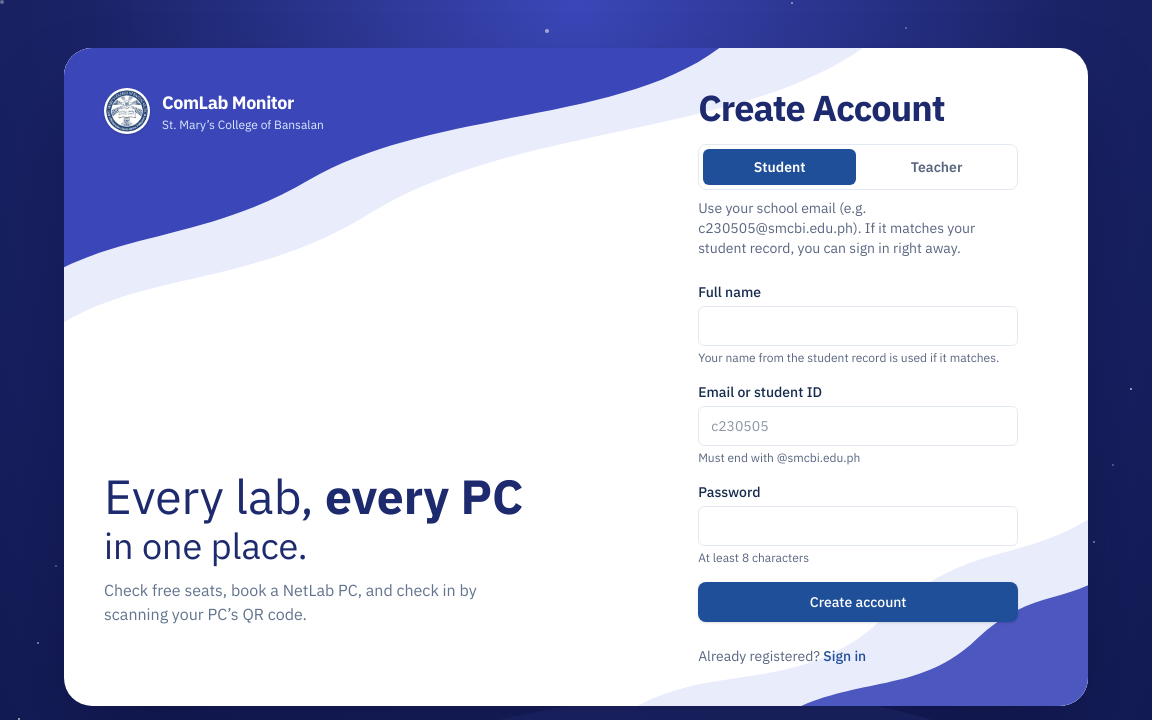
Scenario: auth gate › asks for a school email on sign-up
The width and height of the screenshot is (1152, 720).
Click the button "teacher".
click(937, 167)  # box [860,149,1013,185]
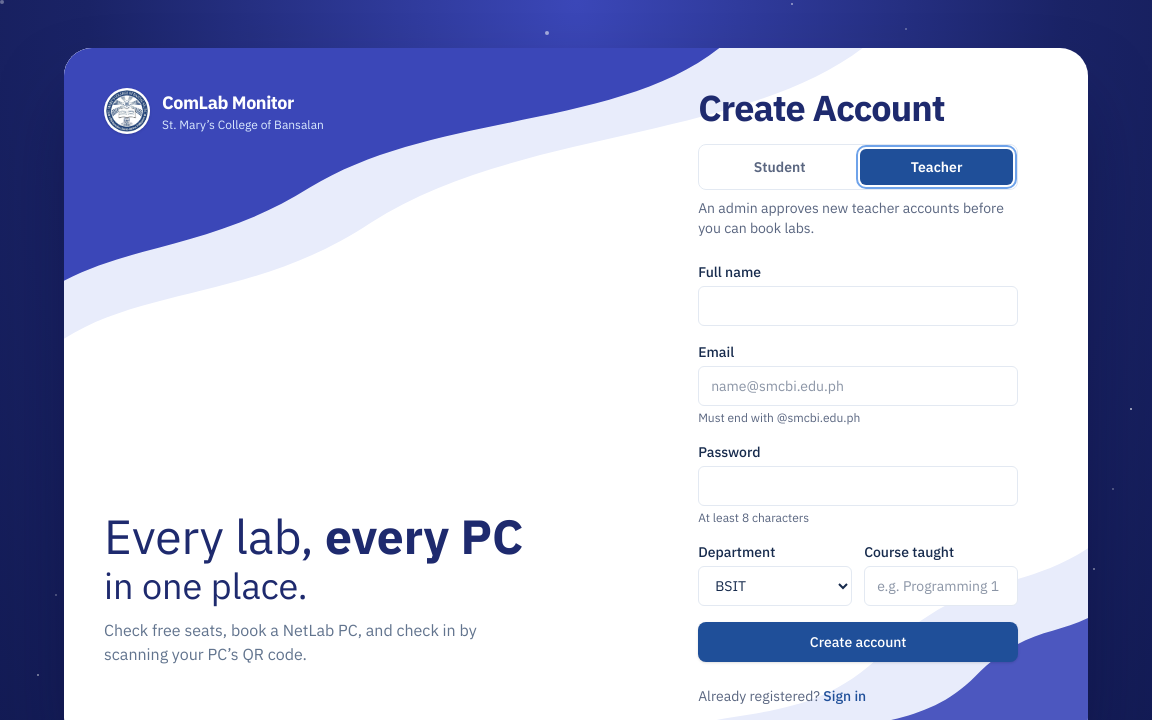
Type "Test User" into the field labelled "Full name".
click(858, 306); type("Test User")  # box [698,286,1018,326]
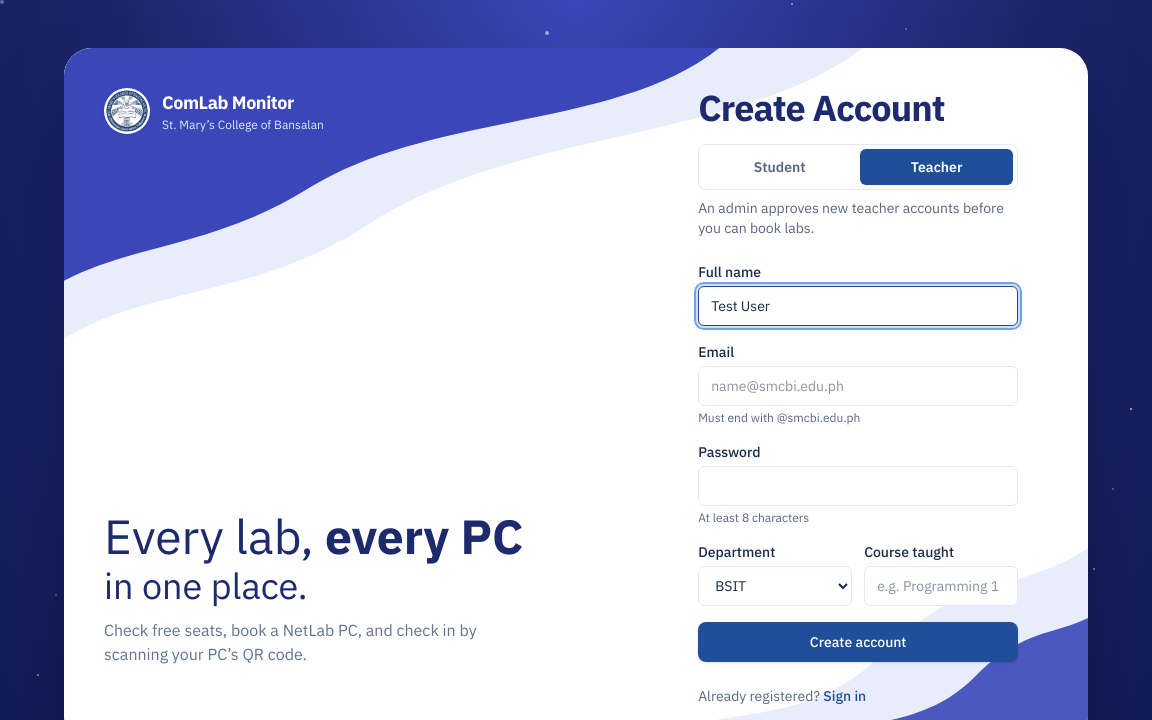
Type "test@gmail.com" into the field labelled "Email Must end with @smcbi.edu.ph".
click(858, 386); type("test@gmail.com")  # box [698,366,1018,406]
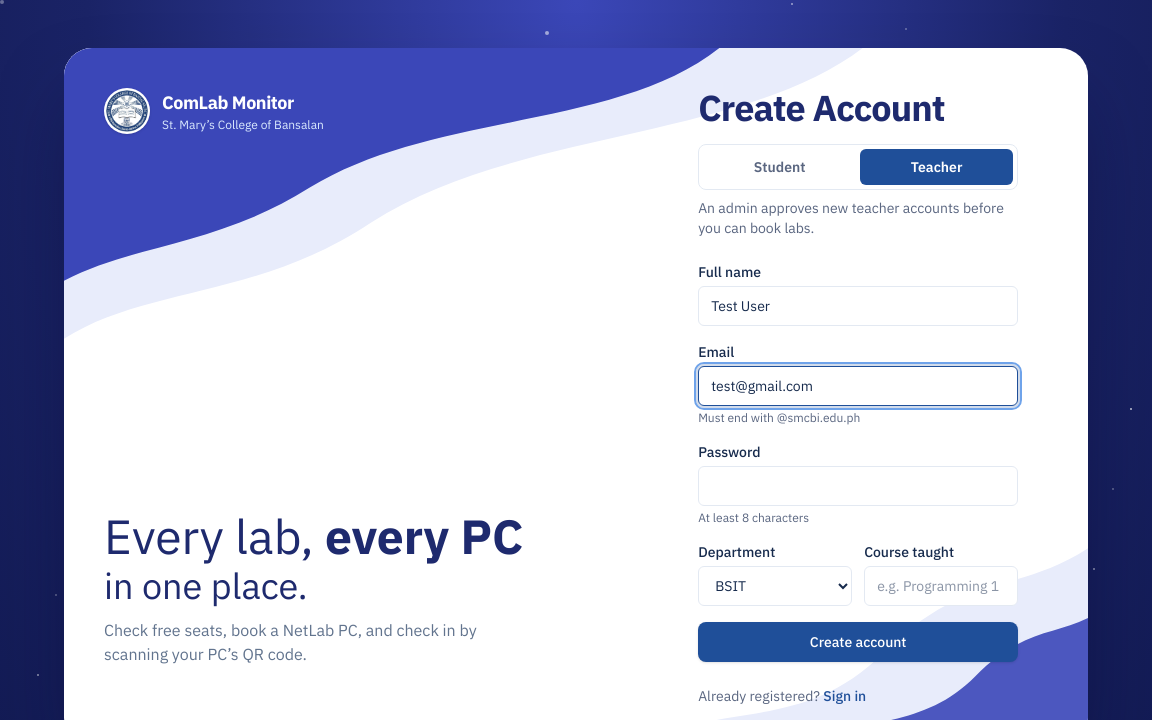
Type "Passw0rd!" into the password field labelled "Password At least 8 characters".
click(858, 486); type("Passw0rd!")  # box [698,466,1018,506]
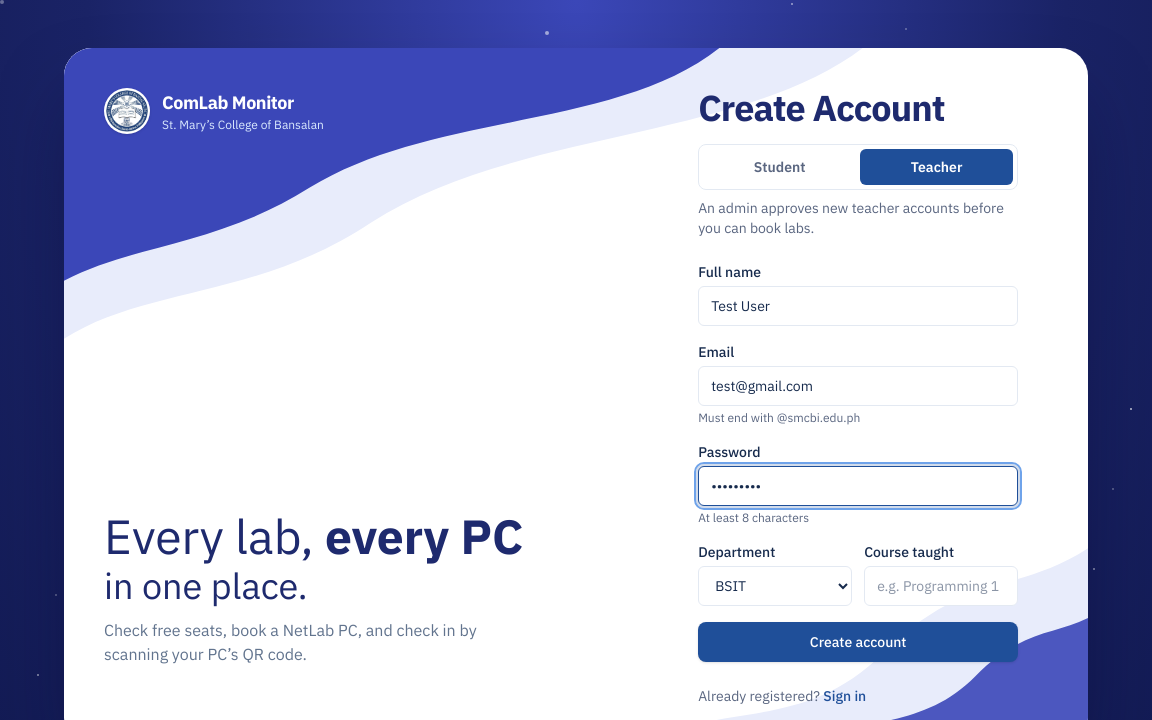
Type "IT" into the field labelled "Course taught".
click(941, 586); type("IT")  # box [864,566,1018,606]
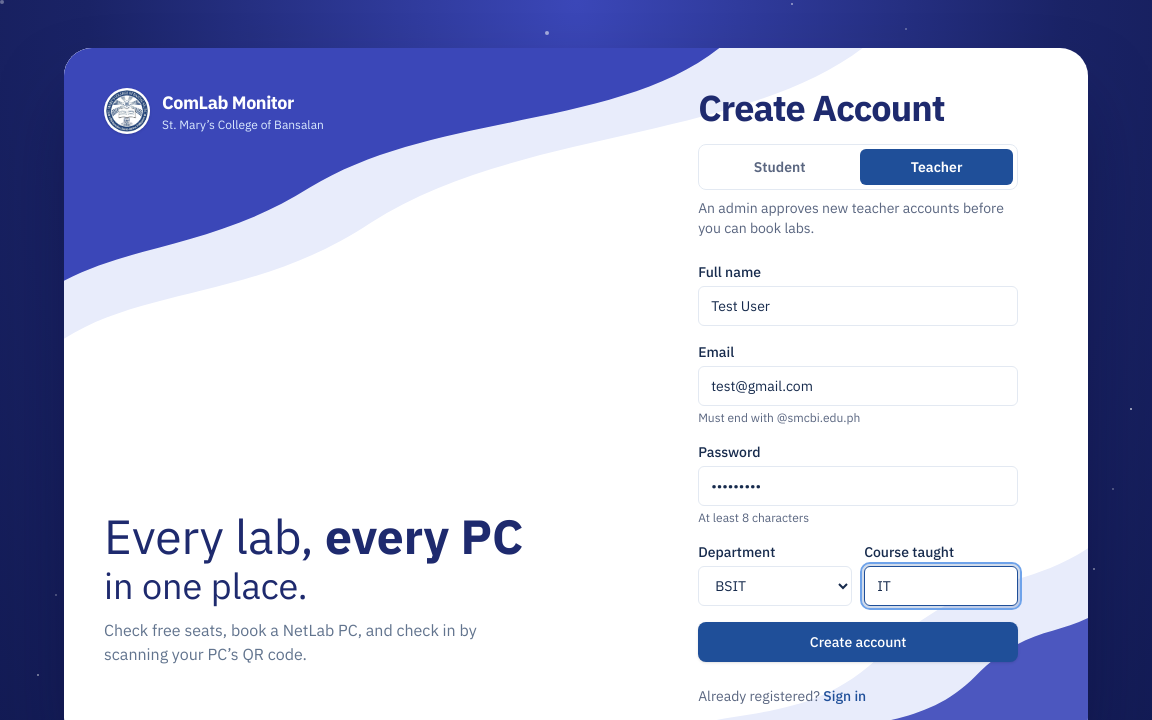
Click the button "Create account".
click(858, 642)  # box [698,622,1018,662]
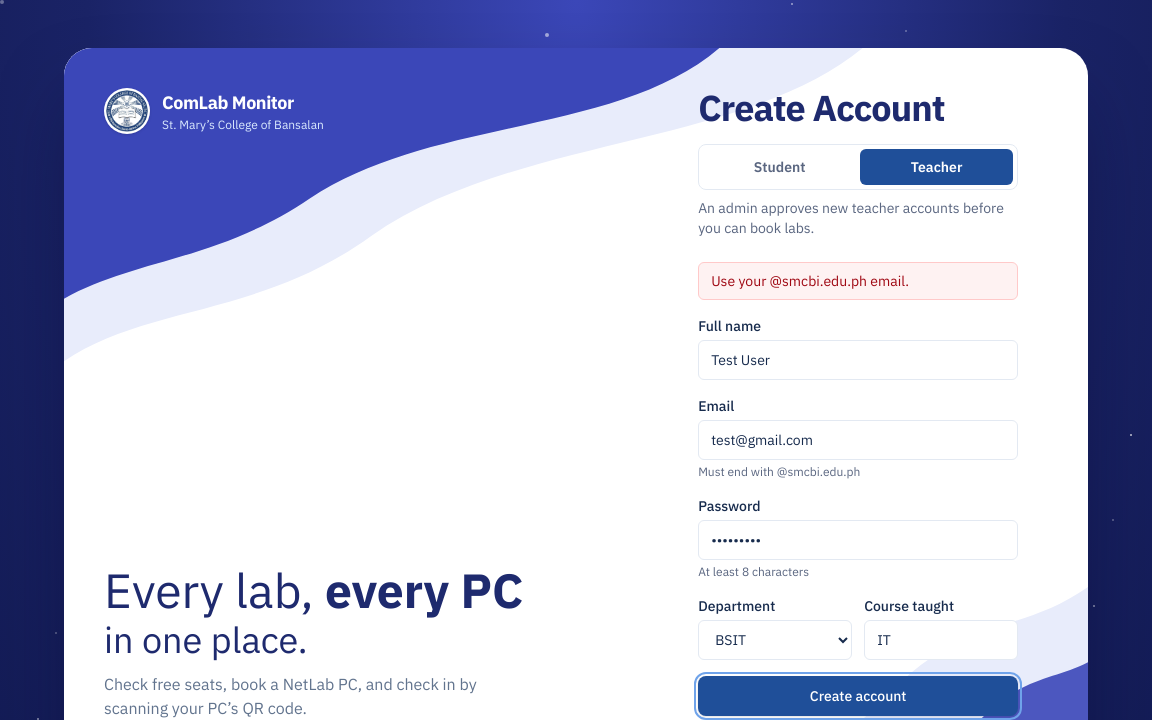
Now the text "Use your @smcbi.edu.ph email." is shown, box [698,262,1018,300]
